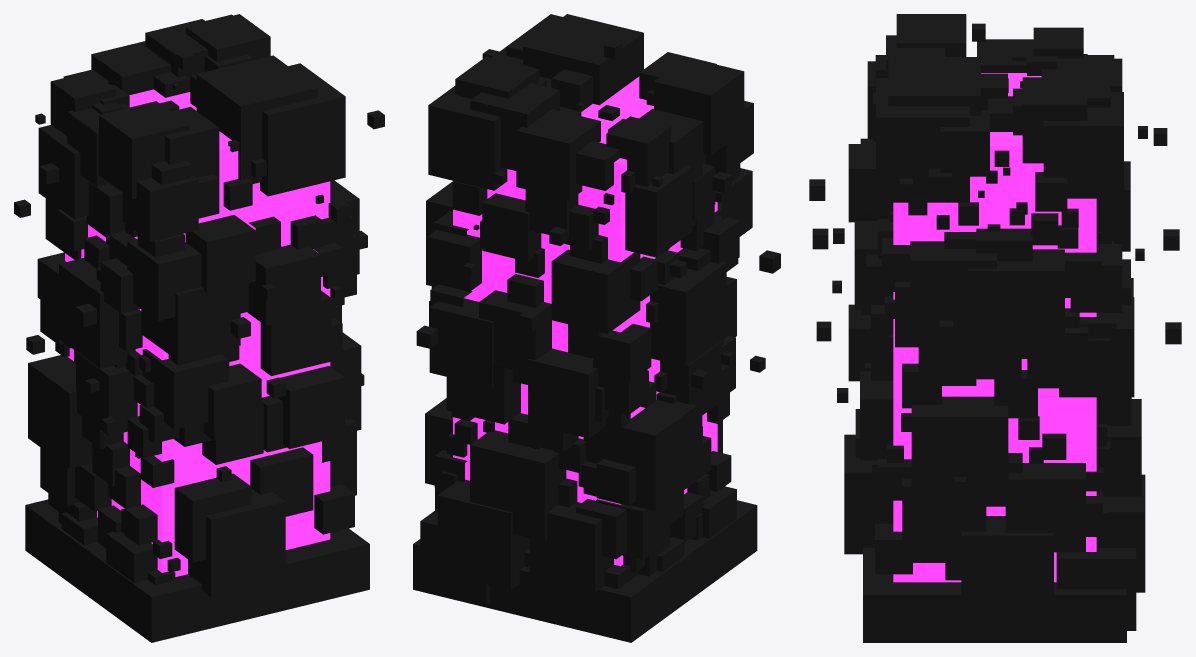
Rendered from glitch cube.fbx.
3 renders of one model, left to right at view 1: azimuth 30°, elevation 25°; view 2: azimuth 150°, elevation 25°; view 3: azimuth 270°, elevation 25°, orthographic. The views are drawn at different scales.
Parts seen in each view (by area): view 1: Platform, building.001, big cube.016, big cube.017, big cube.009, big cube.006, big cube.045, big cube.022, big cube.023, big cube.030, small distance cube.002, big cube.010 (+56 smaller); view 2: Platform, building.001, big cube.045, big cube.089, big cube.072, big cube.009, big cube.030, big cube.053, big cube.006, big cube.081, big cube.084, big cube.076 (+52 smaller); view 3: building.001, Platform, big cube.050, big cube.060, big cube.052, big cube.016, big cube.053, big cube.063, big cube.058, big cube.009, big cube.051, small distance cube.002 (+47 smaller).
Part boxes in pixels (<box>): Platform: <box>25,499,369,642</box>; building.001: <box>65,89,330,576</box>; big cube.016: <box>260,63,345,196</box>; big cube.017: <box>188,489,285,597</box>; big cube.009: <box>196,55,317,183</box>; big cube.006: <box>99,101,189,199</box>; big cube.045: <box>28,355,92,468</box>; big cube.022: <box>141,285,240,360</box>; big cube.023: <box>247,244,320,325</box>; big cube.030: <box>59,258,135,368</box>; small distance cube.002: <box>14,51,384,482</box>; big cube.010: <box>278,366,344,449</box>; Platform: <box>413,500,757,642</box>; building.001: <box>453,76,717,566</box>; big cube.045: <box>583,400,696,510</box>; big cube.089: <box>470,430,566,541</box>; big cube.072: <box>437,479,529,589</box>; big cube.009: <box>523,14,643,105</box>; big cube.030: <box>650,261,726,366</box>; big cube.053: <box>428,86,507,190</box>; big cube.006: <box>654,57,744,155</box>; big cube.081: <box>551,249,640,333</box>; big cube.084: <box>528,348,605,438</box>; big cube.076: <box>516,109,600,199</box>; building.001: <box>893,73,1096,582</box>; Platform: <box>863,547,1126,642</box>; big cube.050: <box>911,396,1008,504</box>; big cube.060: <box>968,249,1064,358</box>; big cube.052: <box>961,516,1053,619</box>; big cube.016: <box>876,78,969,202</box>; big cube.053: <box>1043,92,1123,198</box>; big cube.063: <box>1005,463,1085,552</box>; big cube.058: <box>910,241,996,339</box>; big cube.009: <box>888,57,980,115</box>; big cube.051: <box>902,478,986,562</box>; small distance cube.002: <box>809,23,1181,492</box>.
Bounding box in the file's own units: 721 × 1196 × 734.
